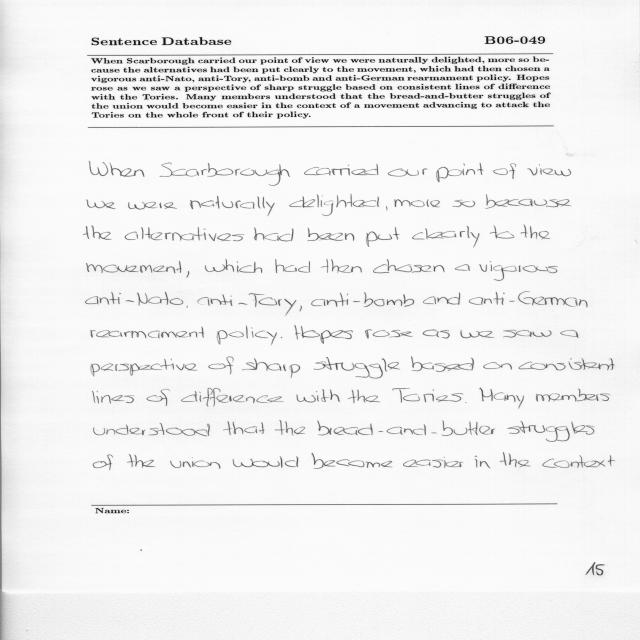word: (160, 163, 290, 186), (317, 421, 495, 436), (197, 293, 297, 316), (469, 291, 588, 308), (289, 194, 379, 216), (181, 388, 283, 407), (91, 359, 197, 377), (508, 421, 595, 442), (314, 357, 400, 378), (190, 196, 275, 216), (125, 227, 245, 241), (480, 261, 558, 281), (311, 292, 414, 307), (94, 423, 210, 436), (412, 226, 479, 247), (86, 292, 184, 306), (91, 327, 205, 339), (312, 453, 393, 469), (485, 194, 571, 209), (518, 358, 615, 371), (217, 325, 277, 345), (242, 358, 300, 378), (86, 261, 182, 273), (294, 325, 353, 344), (392, 388, 464, 403), (536, 388, 610, 402), (373, 259, 445, 273), (542, 455, 615, 468), (411, 357, 474, 372), (480, 388, 524, 409), (437, 163, 484, 182), (90, 161, 145, 177), (304, 164, 379, 175), (205, 259, 262, 273), (233, 456, 298, 468), (403, 457, 464, 468), (366, 227, 399, 247), (171, 457, 221, 469), (308, 228, 354, 241), (223, 421, 265, 435), (321, 259, 362, 273), (254, 228, 294, 242), (297, 390, 340, 403), (93, 391, 135, 404), (528, 165, 572, 177), (275, 259, 310, 273), (423, 292, 460, 305), (521, 224, 551, 240), (208, 357, 234, 375), (500, 453, 530, 468), (83, 225, 112, 240), (365, 330, 413, 339), (275, 421, 305, 435), (348, 390, 380, 403), (146, 389, 170, 406), (128, 202, 177, 210), (503, 330, 552, 338), (127, 454, 155, 468), (493, 163, 516, 179), (394, 200, 440, 208), (388, 169, 428, 177), (93, 455, 113, 471), (490, 226, 514, 239), (461, 330, 495, 338), (87, 200, 115, 209), (423, 330, 450, 339), (483, 362, 512, 370), (475, 456, 490, 469), (453, 200, 475, 207), (560, 330, 579, 338), (455, 264, 470, 271), (187, 271, 190, 278), (299, 305, 302, 312), (386, 206, 387, 211), (187, 305, 188, 308), (281, 337, 283, 338), (465, 402, 467, 403)
